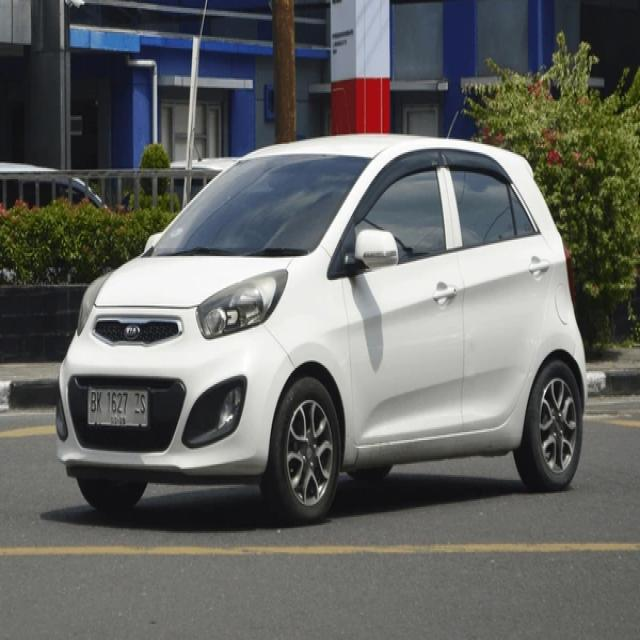kia: (123, 326, 141, 338)
